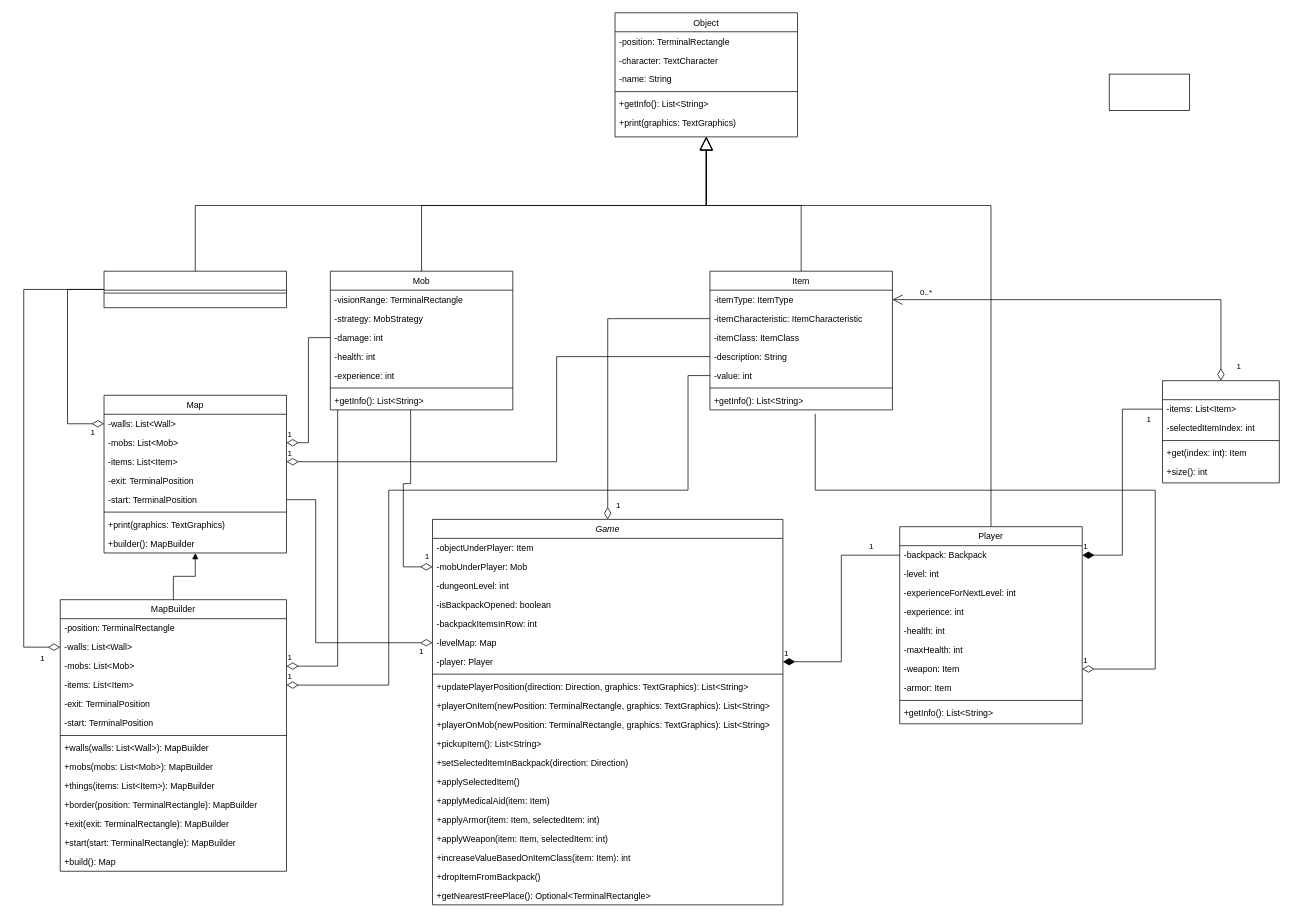
This 1292x920 diagram has some shape labels left out. Each missing label, with the box of its shape:
<<subsystem>> Managmet: (1109, 73, 1190, 111)
Backpack: (1162, 380, 1279, 483)
Wall: (103, 270, 287, 308)
